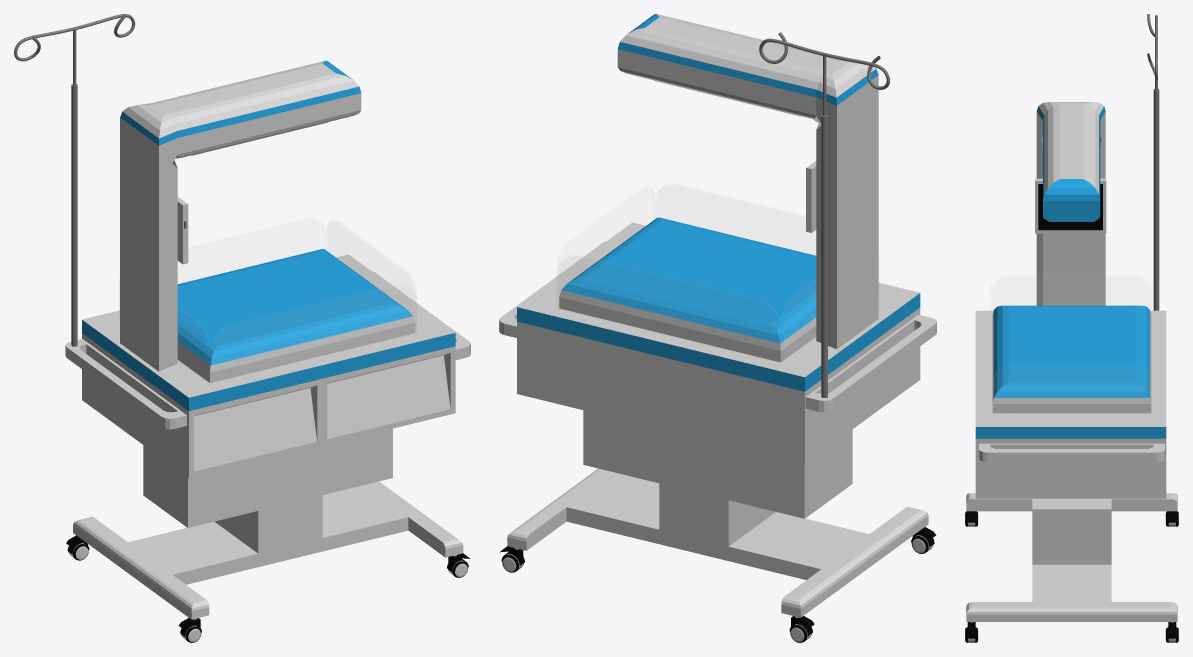
3 renders of one model, left to right at view 1: azimuth 30°, elevation 25°; view 2: azimuth 150°, elevation 25°; view 3: azimuth 270°, elevation 25°, orthographic. The views are drawn at different scales.
Visible parts, largest first — view 1: CI-5; view 2: CI-5; view 3: CI-5.
Boxes of the visible parts, x1,y1,x2,y2 form: CI-5: (14, 14, 470, 642); CI-5: (499, 14, 936, 642); CI-5: (965, 14, 1178, 642).
Bounding box in the file's own units: 141 × 203 × 81.
